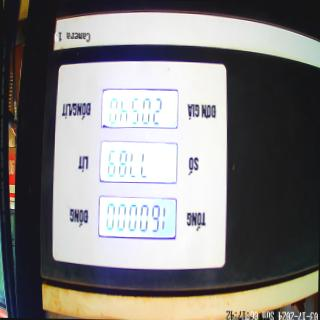screen: (96, 84, 180, 243)
